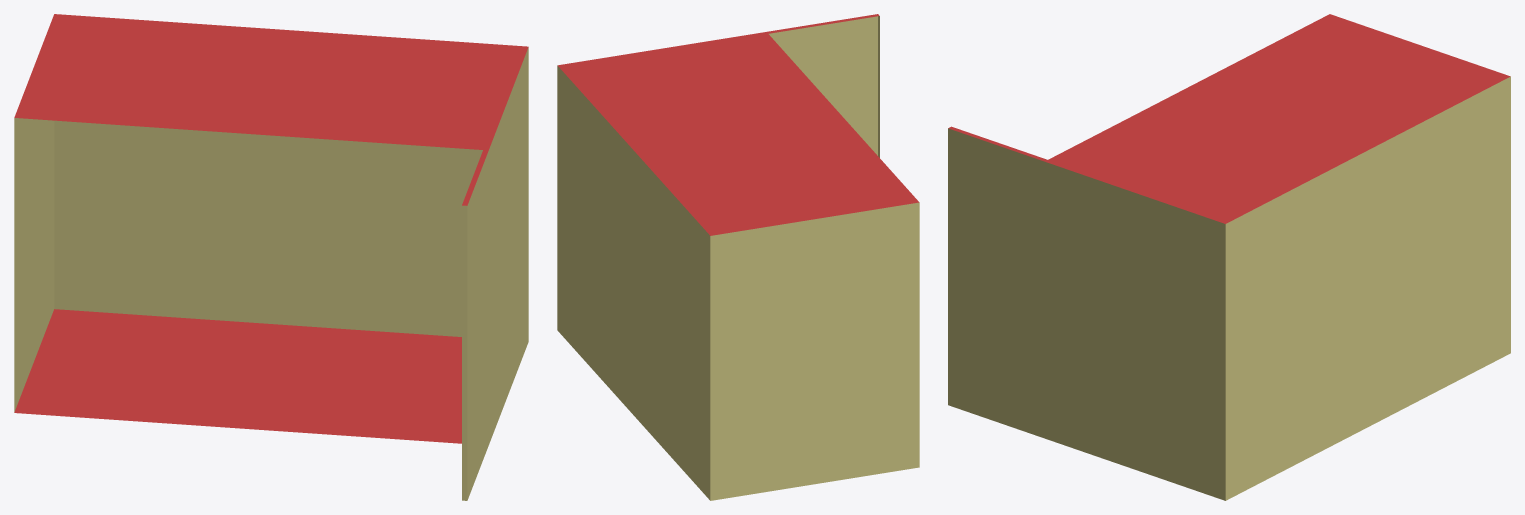
3 views of the same model, side by side, from view 1: azimuth 30°, elevation 25°; view 2: azimuth 150°, elevation 25°; view 3: azimuth 270°, elevation 25° (orthographic). The views are drawn at different scales.
Bounding box in the file's own units: 10.58 × 11.98 × 6.51.
